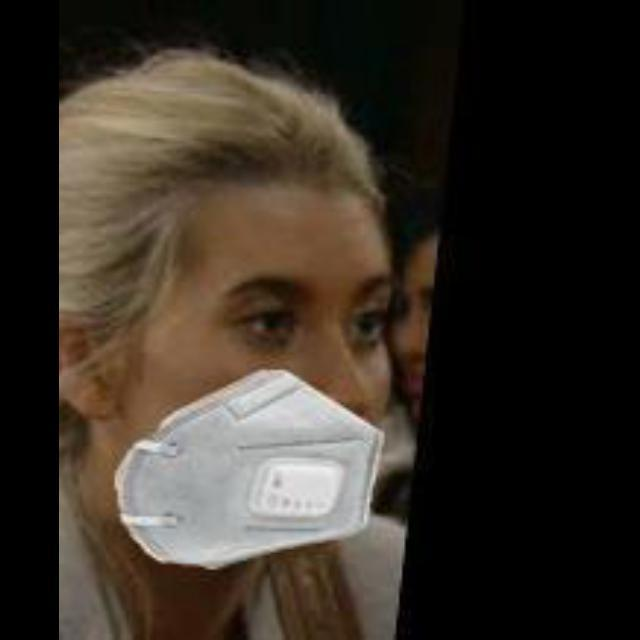suspicion: (58, 20, 418, 536)
